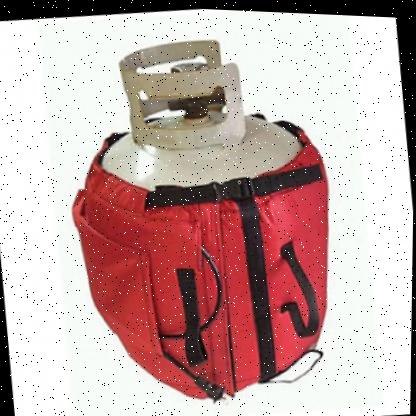gas-tank: (59, 17, 343, 231)
